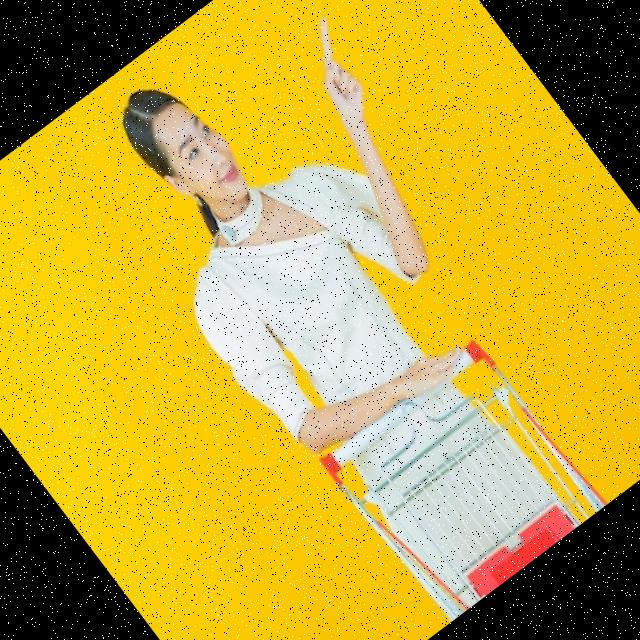Person: (59, 0, 640, 638)
